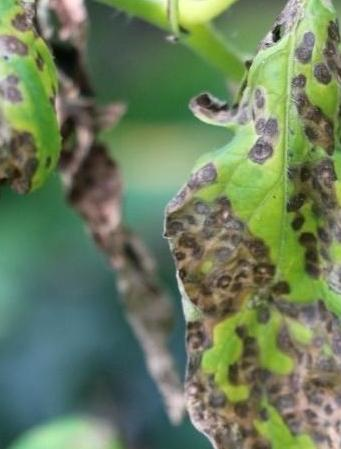Tomato leaf bacterial spot: (148, 0, 341, 449), (0, 0, 79, 210)
